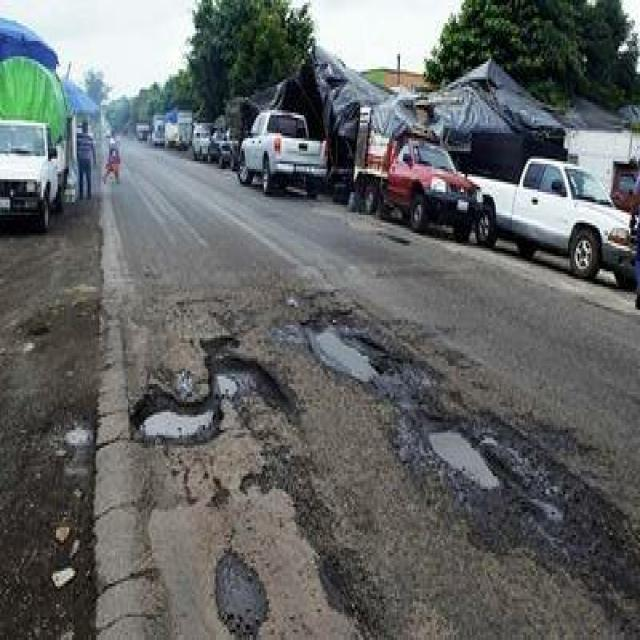pothole: (296, 305, 535, 538), (120, 318, 290, 482)
